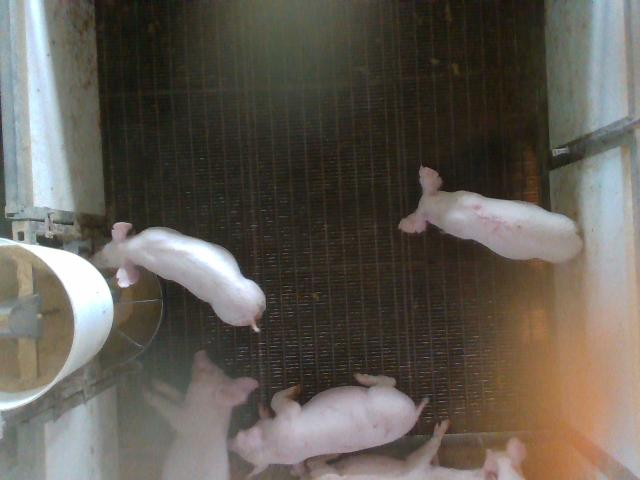pig-5: (399, 168, 582, 262)
